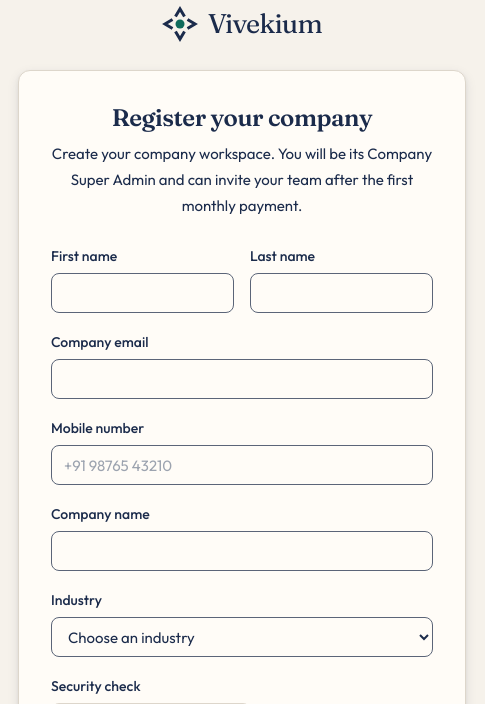
Test: register your company › sends the details with a company_register proof and offers no Google
Type "Saravan" into the field labelled "First name". click: (142, 293)
box: [51,273,234,313]
Type "Kumar" into the field labelled "Last name". click: (342, 293)
box: [250,273,433,313]
Type "founder@circa.com" into the field labelled "Company email". click: (242, 379)
box: [51,359,433,399]
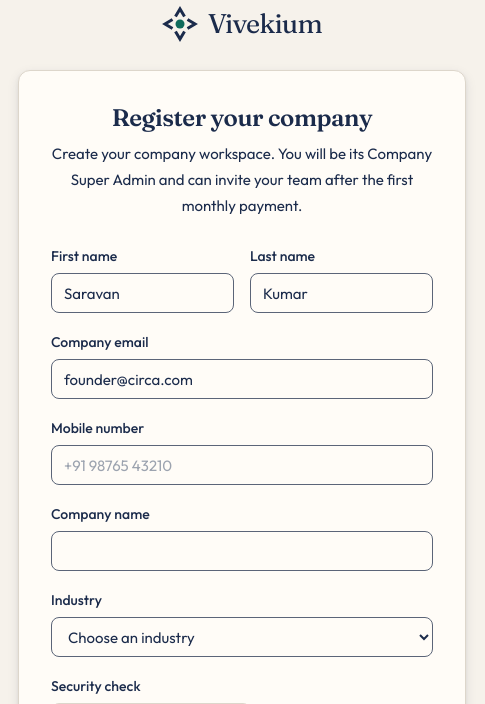
Type "98765 43210" into the field labelled "Mobile number". click: (242, 465)
box: [51,445,433,485]
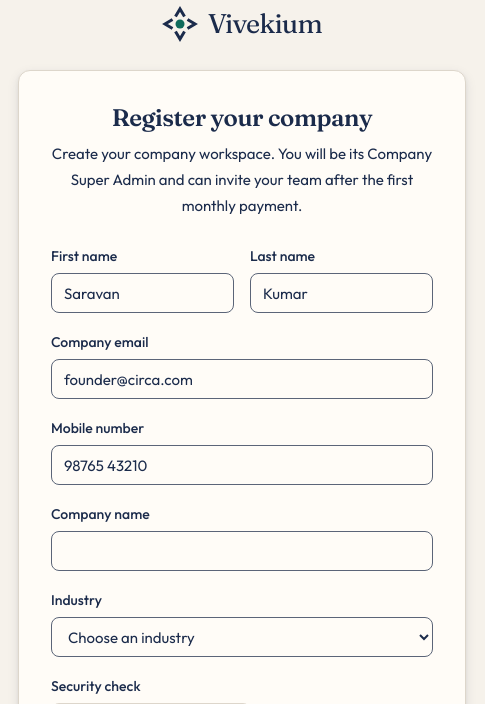
Type "Circa Corp" into the field labelled "Company name". click: (242, 551)
box: [51,531,433,571]
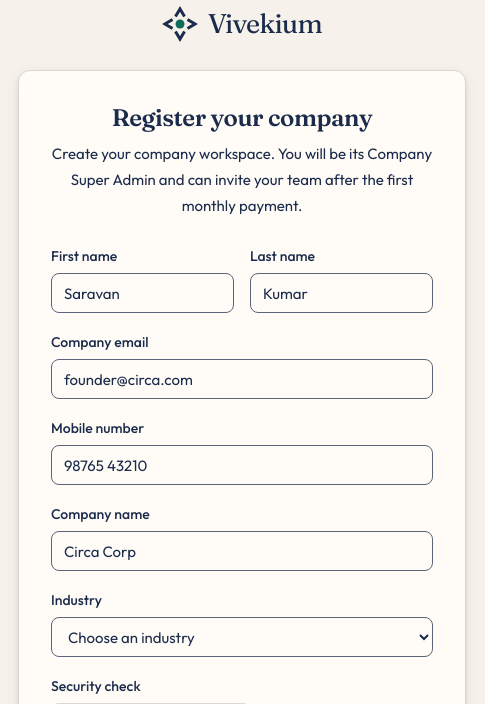
Select "Technology" in the dropdown labelled "Industry". click: (242, 637)
box: [51,617,433,657]
(page scrolled)
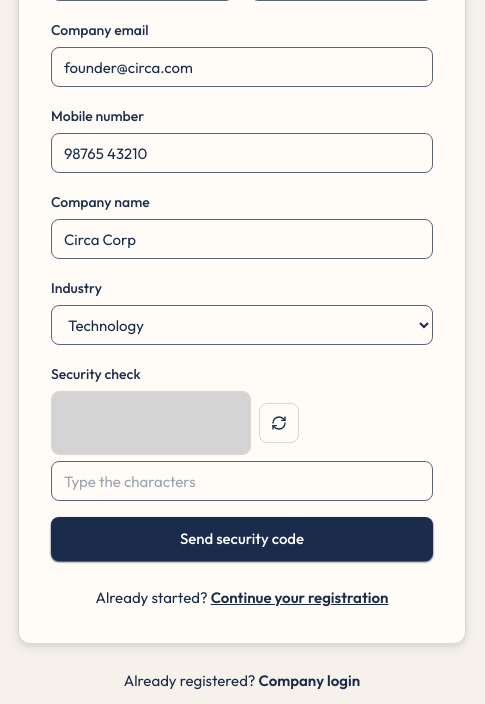
Type "k7m2px" into the field labelled "Security check". click: (242, 481)
box: [51,461,433,501]
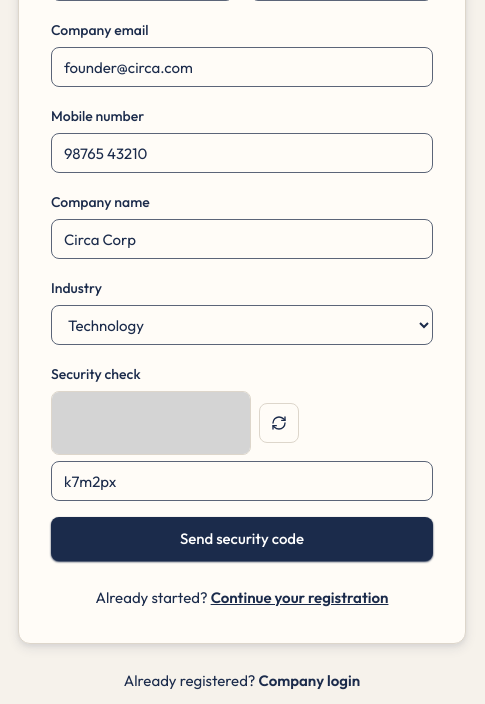
Click the button "Send security code". click: (242, 539)
box: [51,517,433,561]
(page scrolled)
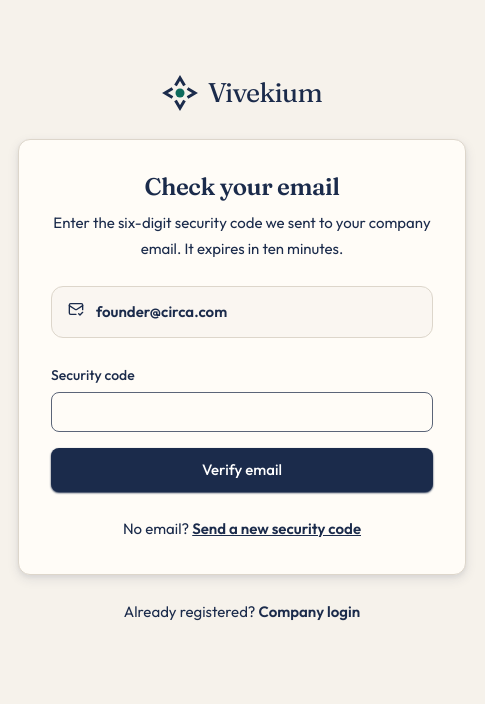
expect the field labelled "Security code" is shown: met, box [51,392,433,432]
